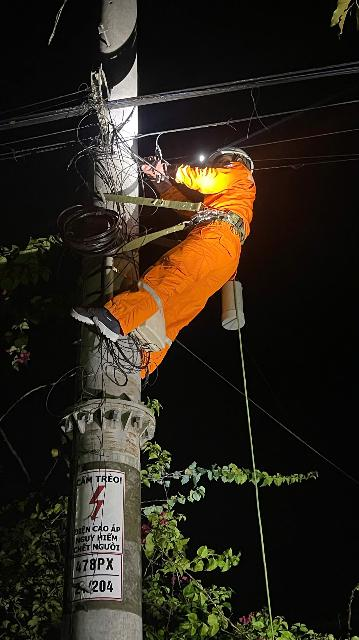gloves: (139, 146, 171, 180)
harness: (181, 198, 270, 246)
helmet: (211, 141, 259, 168)
shoes: (68, 292, 127, 349)
